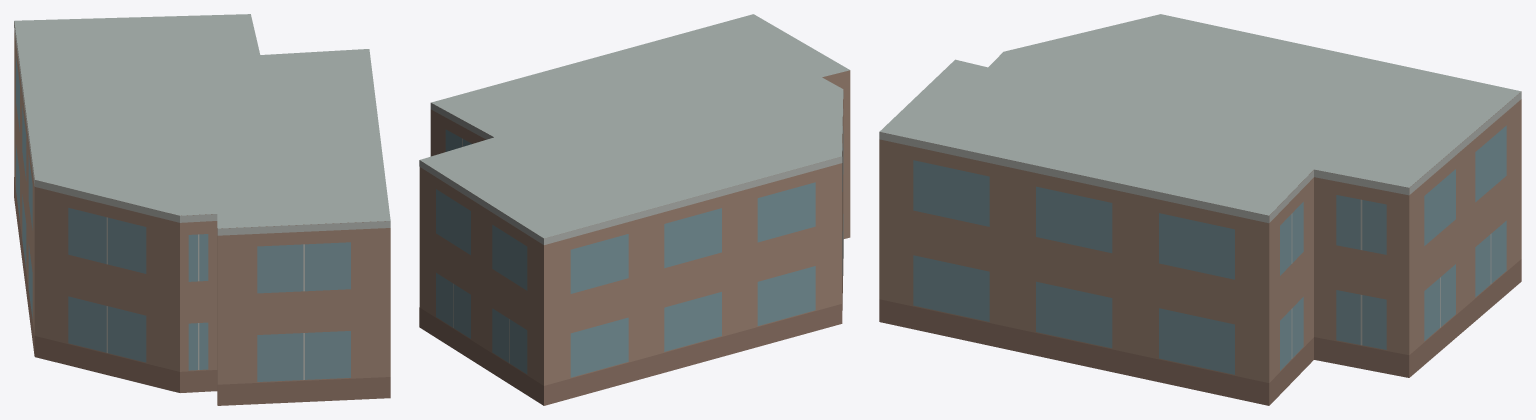
The model's file is survey-upis-32812509.glb.
3 renders of one model, left to right at view 1: azimuth 30°, elevation 25°; view 2: azimuth 150°, elevation 25°; view 3: azimuth 270°, elevation 25°, orthographic. The views are drawn at different scales.
Visible parts, largest first — view 1: survey-upis-32812509.tmp; view 2: survey-upis-32812509.tmp; view 3: survey-upis-32812509.tmp.
Part boxes in pixels (left/top/right/bottom): survey-upis-32812509.tmp: left=14, top=14, right=390, bottom=405; survey-upis-32812509.tmp: left=419, top=14, right=850, bottom=405; survey-upis-32812509.tmp: left=879, top=14, right=1521, bottom=405.
Size of the model in its own units: 13.88 by 6.1 by 18.67.
